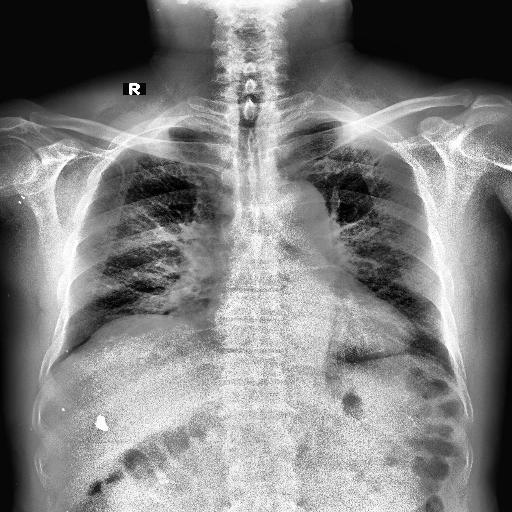0- Aortic enlargement: (254, 178, 332, 234), (264, 183, 330, 245), (270, 181, 332, 231)
11- Pleural thickening: (128, 115, 188, 147)
3- Cardiomegaly: (204, 290, 420, 364), (200, 286, 414, 356), (202, 286, 416, 356)
